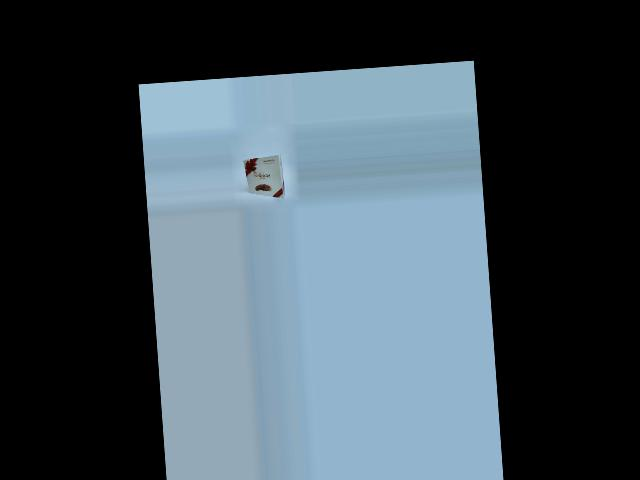chocolate: (242, 155, 293, 202)
